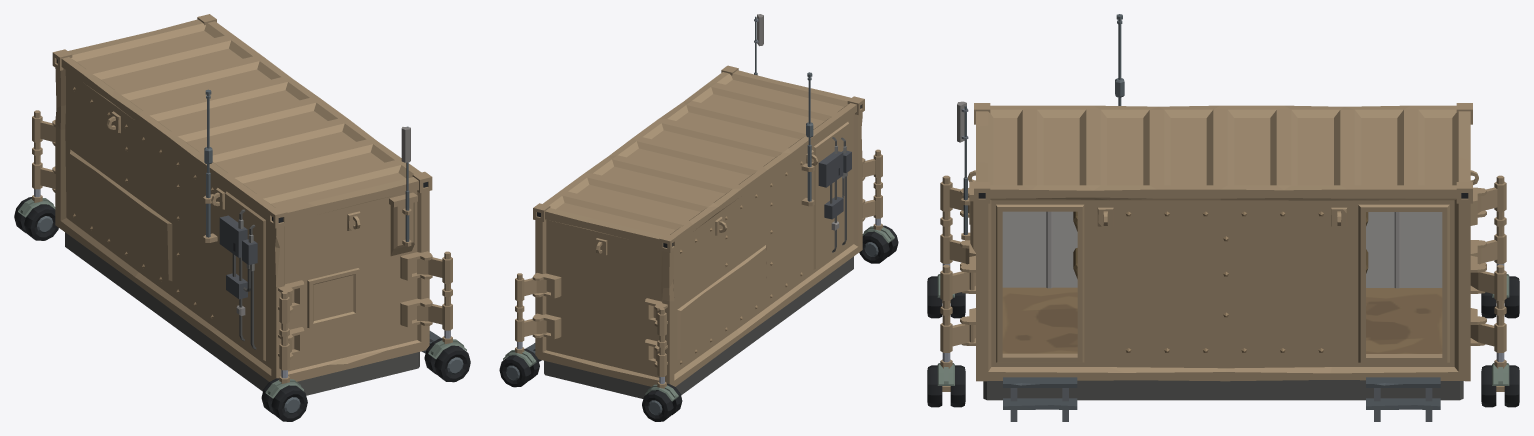
The model's file is SM_Prop_Drone_Control_Room_01.fbx.
The picture shows the model from 3 angles, left to right: view 1: azimuth 30°, elevation 25°; view 2: azimuth 150°, elevation 25°; view 3: azimuth 270°, elevation 25°; orthographic projection. The views are drawn at different scales.
Visible parts, largest first — view 1: SM_Prop_Drone_Control_Room_01; view 2: SM_Prop_Drone_Control_Room_01; view 3: SM_Prop_Drone_Control_Room_01.
Part boxes in pixels (left/top/right/bottom): SM_Prop_Drone_Control_Room_01: left=14, top=14, right=470, bottom=421; SM_Prop_Drone_Control_Room_01: left=499, top=14, right=898, bottom=421; SM_Prop_Drone_Control_Room_01: left=927, top=14, right=1519, bottom=421.
Size of the model in its own units: 332 by 407 by 725.
